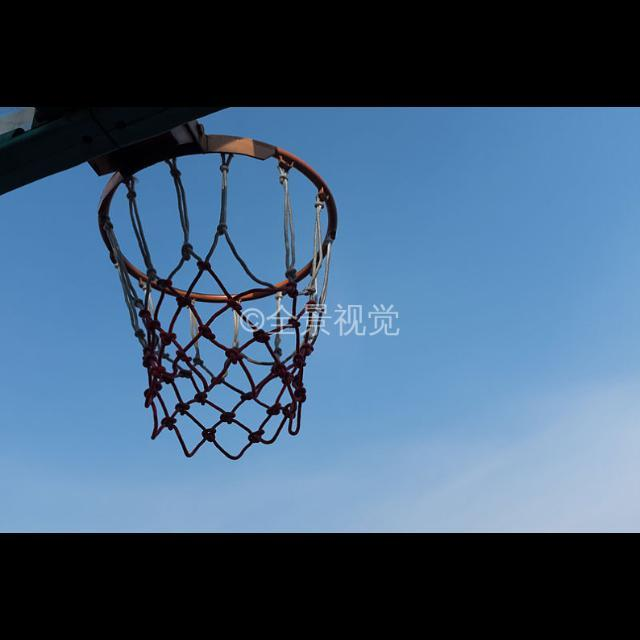rim: (102, 136, 338, 460)
